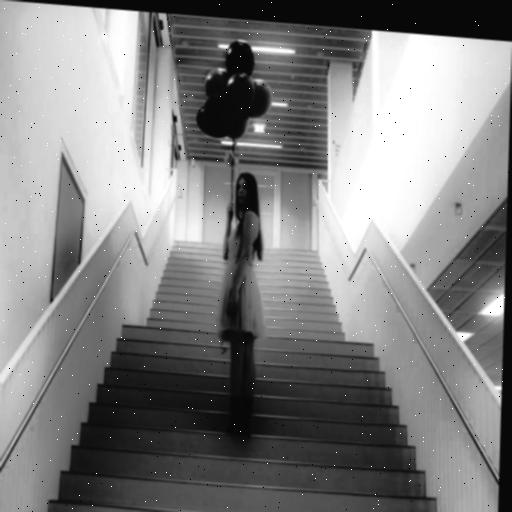balloon: (224, 71, 256, 118), (224, 38, 256, 79), (203, 94, 235, 134), (194, 104, 229, 140), (245, 78, 274, 121), (203, 66, 230, 103), (227, 112, 250, 141)
